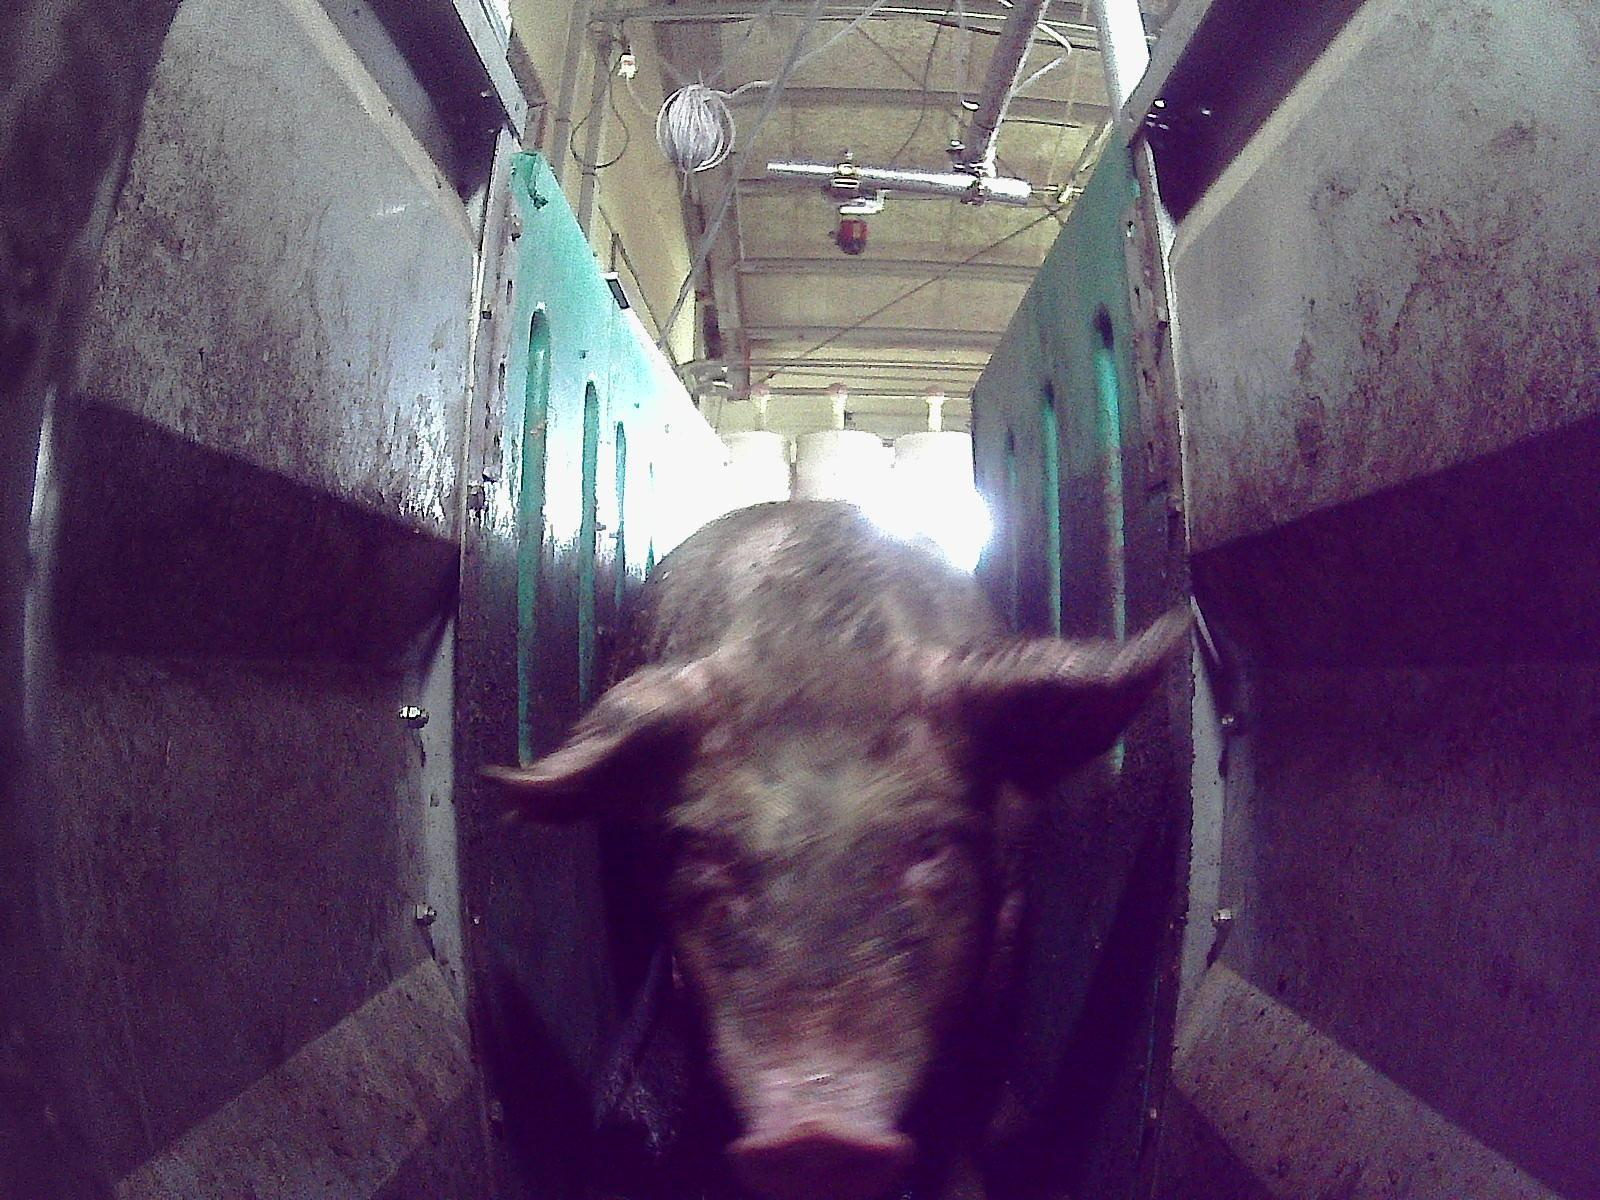Face: (663, 686, 992, 1199)
